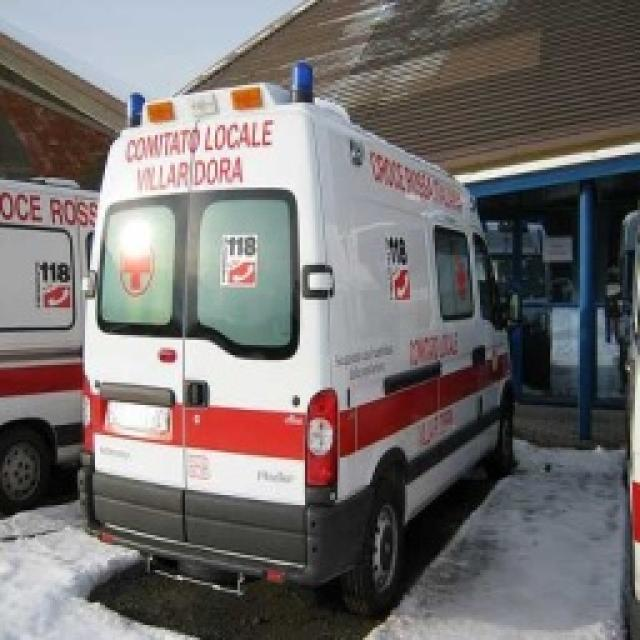emergency-vehicle: (84, 66, 519, 609)
